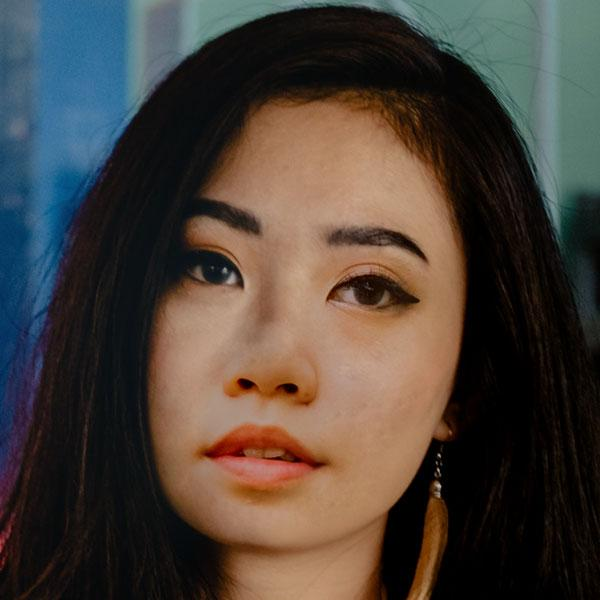Eyes: (319, 254, 420, 324), (171, 240, 252, 299)
